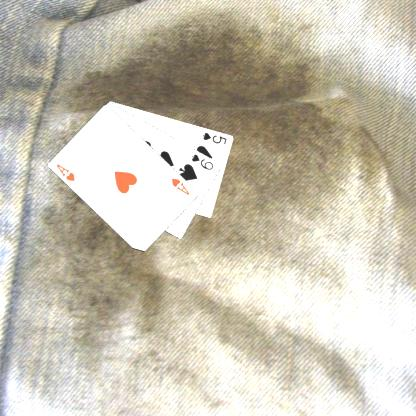5S: (201, 130, 228, 146)
9S: (189, 151, 215, 171)
AH: (169, 175, 191, 197), (54, 161, 76, 183)
